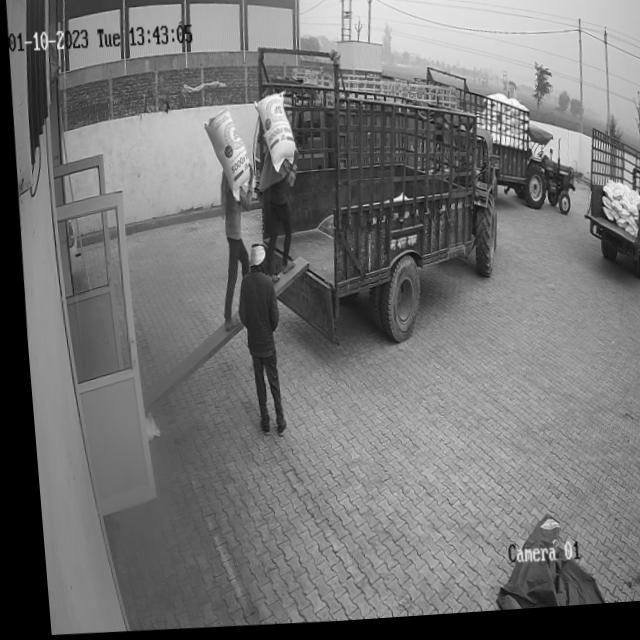sack: (199, 109, 250, 205), (249, 94, 293, 177)
